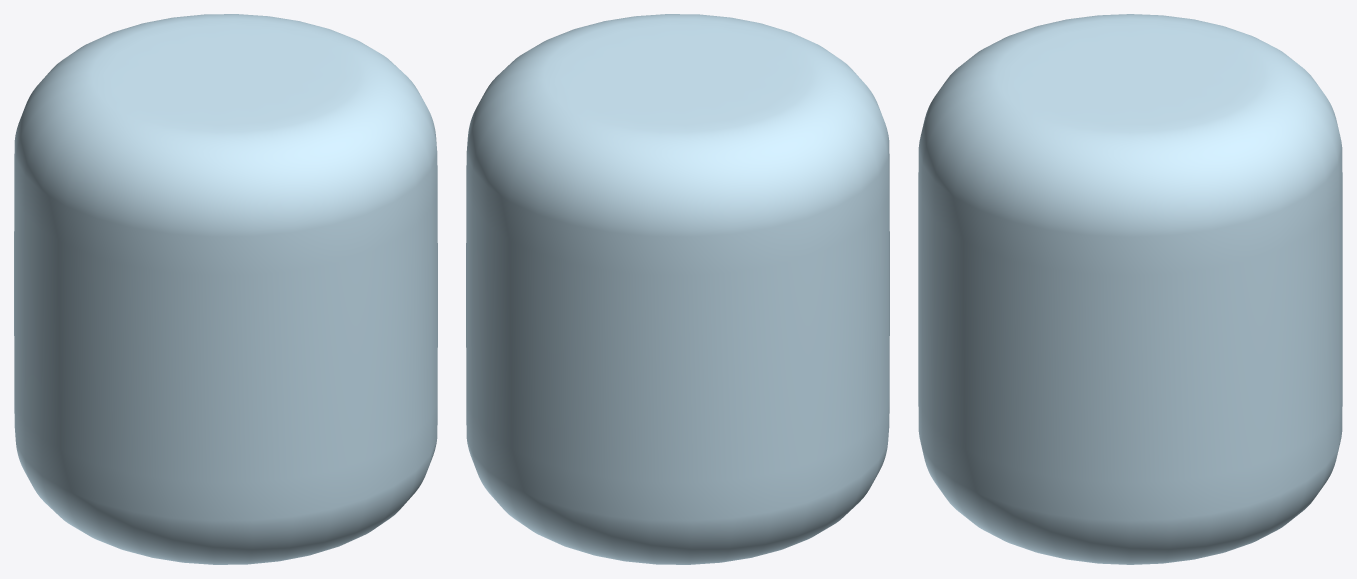
File: capsulenew.glb
3 renders of one model, left to right at view 1: azimuth 30°, elevation 25°; view 2: azimuth 150°, elevation 25°; view 3: azimuth 270°, elevation 25°, orthographic.
Visible parts, largest first — view 1: Glass.001; view 2: Glass.001; view 3: Glass.001.
Boxes of the visible parts, x1=… form: Glass.001: x1=14, y1=14, x2=437, y2=564; Glass.001: x1=466, y1=14, x2=889, y2=564; Glass.001: x1=918, y1=14, x2=1342, y2=564.
Size of the model in its own units: 0.981 by 1.09 by 0.981.
